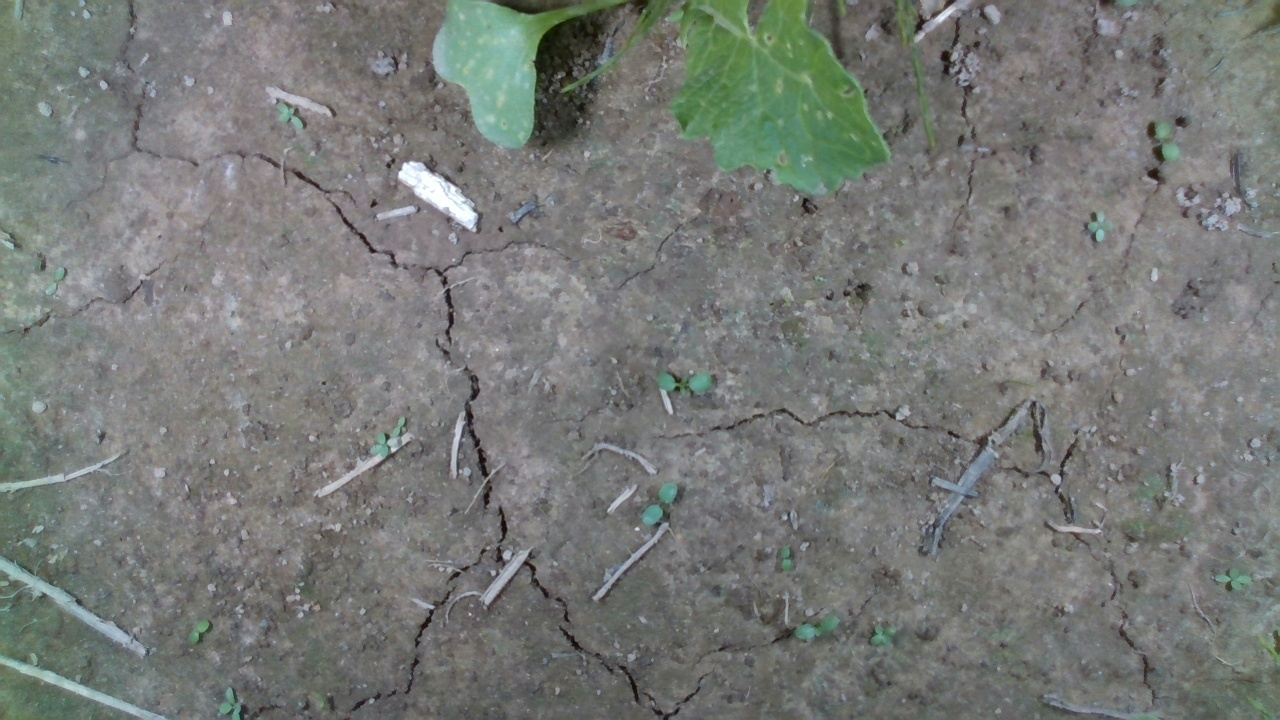weed: (638, 479, 679, 527)
